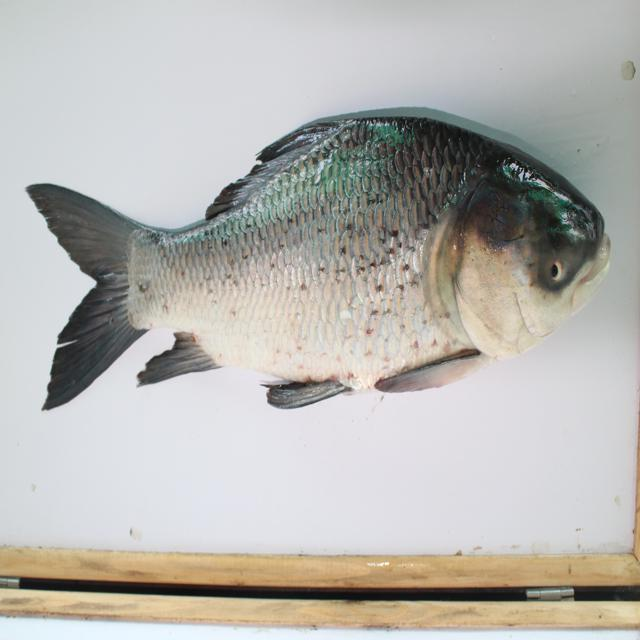Catla: (12, 103, 615, 419)
